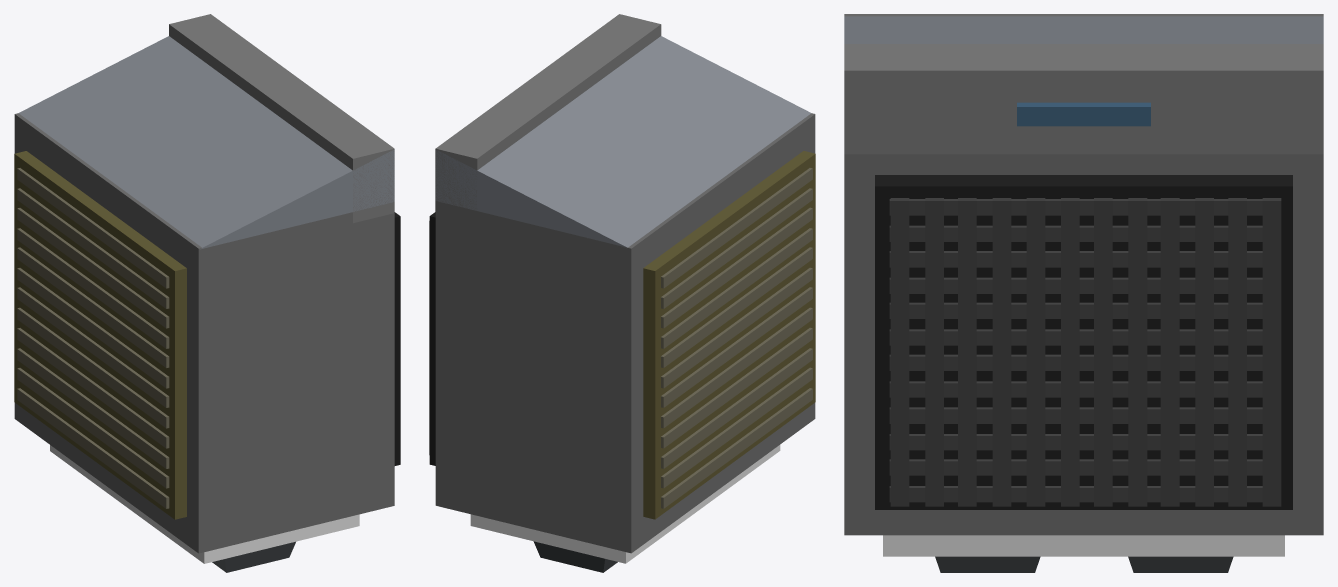
File: iwatafan1.fbx
3 views of the same model, side by side, from view 1: azimuth 30°, elevation 25°; view 2: azimuth 150°, elevation 25°; view 3: azimuth 270°, elevation 25° (orthographic). The views are drawn at different scales.
Visible parts, largest first — view 1: Cube, Cube.001, Cube.007, Cube.003, Cube.002, Cube.008, Cube.004, Cone; view 2: Cube, Cube.001, Cube.007, Cube.003, Cube.002, Cube.008, Cube.004, Cone; view 3: Cube.005, Cube.002, Cube, Cube.004, Cube.006, Cube.001, Cube.008, Cone, Cube.009.
Part boxes in pixels (x1,y1,x2,y2): Cube: [14, 113, 394, 553]; Cube.001: [18, 36, 394, 249]; Cube.007: [17, 168, 169, 508]; Cube.003: [14, 151, 186, 519]; Cube.002: [169, 14, 394, 223]; Cube.008: [50, 445, 359, 563]; Cube.004: [394, 212, 400, 465]; Cone: [212, 541, 295, 572]; Cube: [435, 113, 815, 553]; Cube.001: [435, 36, 811, 248]; Cube.007: [661, 168, 812, 508]; Cube.003: [643, 151, 815, 519]; Cube.002: [435, 14, 661, 212]; Cube.008: [470, 445, 780, 563]; Cube.004: [429, 212, 435, 465]; Cone: [533, 541, 617, 572]; Cube.005: [890, 198, 1281, 506]; Cube.002: [844, 44, 1323, 154]; Cube: [844, 14, 1323, 535]; Cube.004: [875, 175, 1292, 509]; Cube.006: [889, 199, 1262, 502]; Cube.001: [844, 16, 1323, 43]; Cube.008: [883, 535, 1284, 556]; Cone: [935, 556, 1233, 572]; Cube.009: [1017, 102, 1150, 126].
Size of the model in its own units: 192 by 329 by 262.
